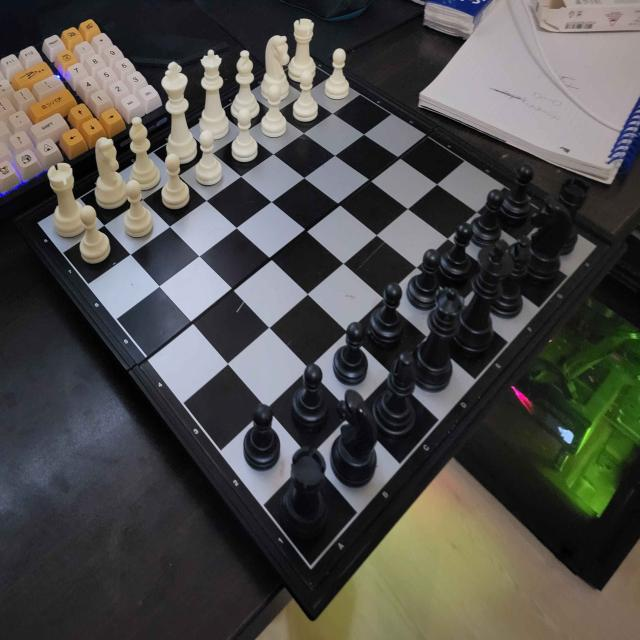black-bishop: (374, 352, 416, 440), (500, 232, 533, 321)
black-king: (457, 238, 514, 361)
black-knight: (331, 385, 378, 492), (530, 194, 570, 288)
black-pawn: (240, 402, 282, 474), (291, 360, 330, 434), (366, 278, 406, 350), (498, 160, 538, 228), (331, 318, 368, 390), (406, 246, 441, 311), (440, 222, 475, 284), (470, 188, 506, 248)
black-queen: (418, 284, 465, 397)
black-rook: (280, 444, 328, 541), (558, 172, 591, 258)
chess-board: (38, 54, 610, 584)
white-bishop: (128, 115, 162, 193), (230, 48, 261, 121)
white-king: (160, 60, 199, 167)
white-knight: (92, 135, 129, 211), (259, 33, 290, 104)
white-pawn: (119, 178, 156, 242), (77, 202, 112, 269), (160, 150, 192, 213), (194, 130, 224, 189), (230, 106, 260, 164), (291, 70, 320, 125), (261, 83, 288, 141), (324, 46, 351, 101)
white-queen: (199, 47, 230, 142)
white-rook: (46, 160, 86, 240), (288, 16, 317, 86)
